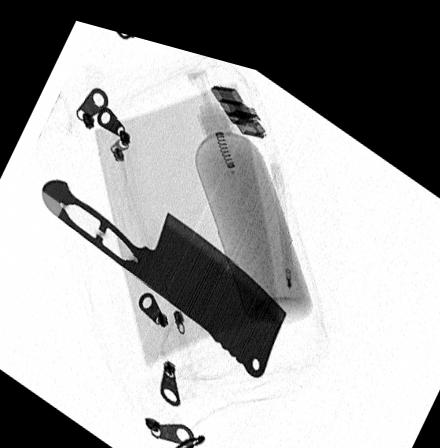Knife: (39, 175, 287, 364)
